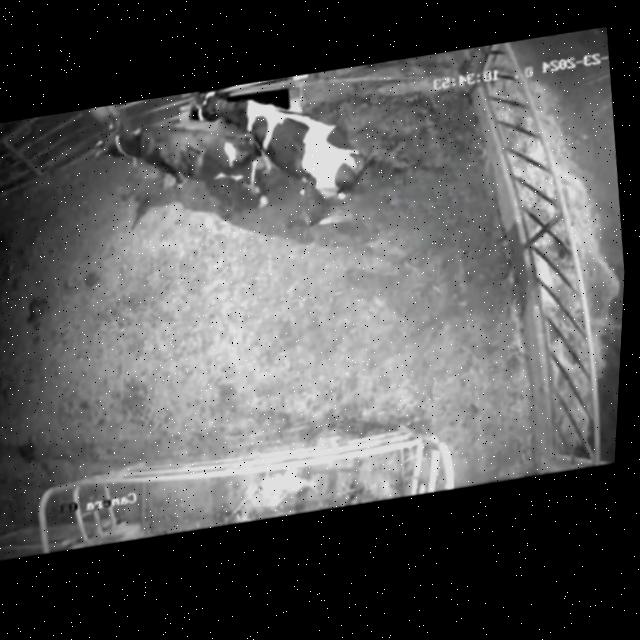drink: (188, 83, 259, 143)
stand: (77, 99, 277, 236)
